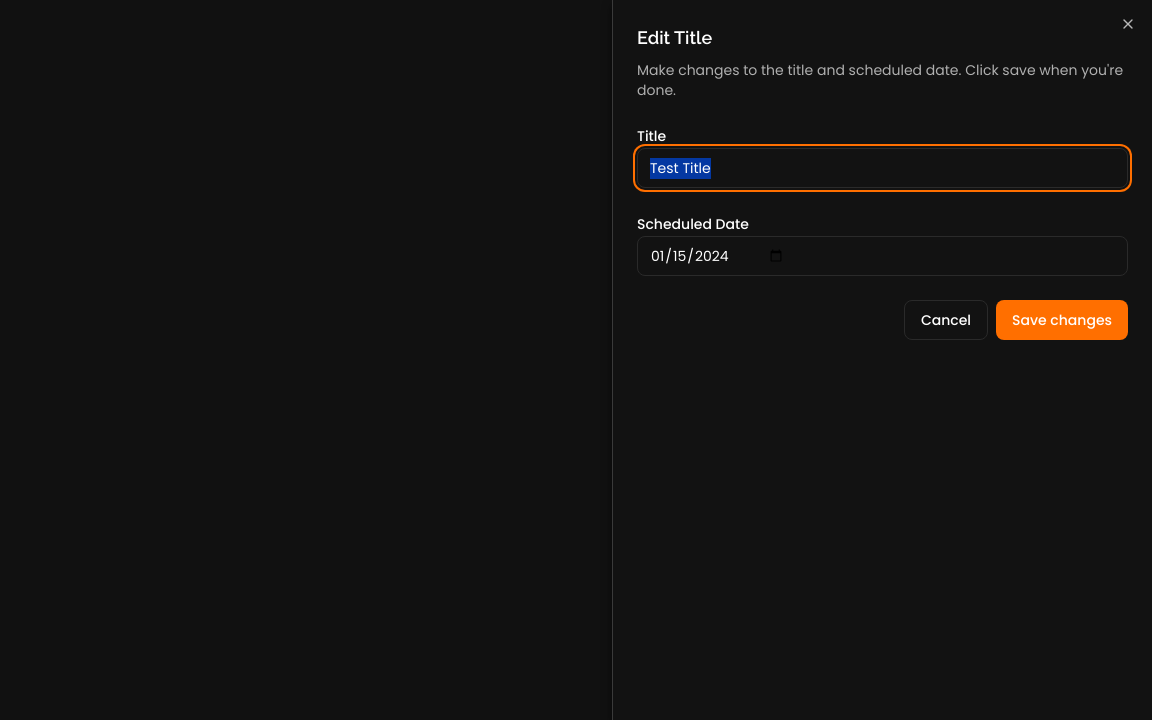
Test case: EditTitleSheet › shows error message when title is empty
This screenshot has width=1152, height=720.
Clear the field labelled "Title" at point(882, 168), box [637,148,1128,188]
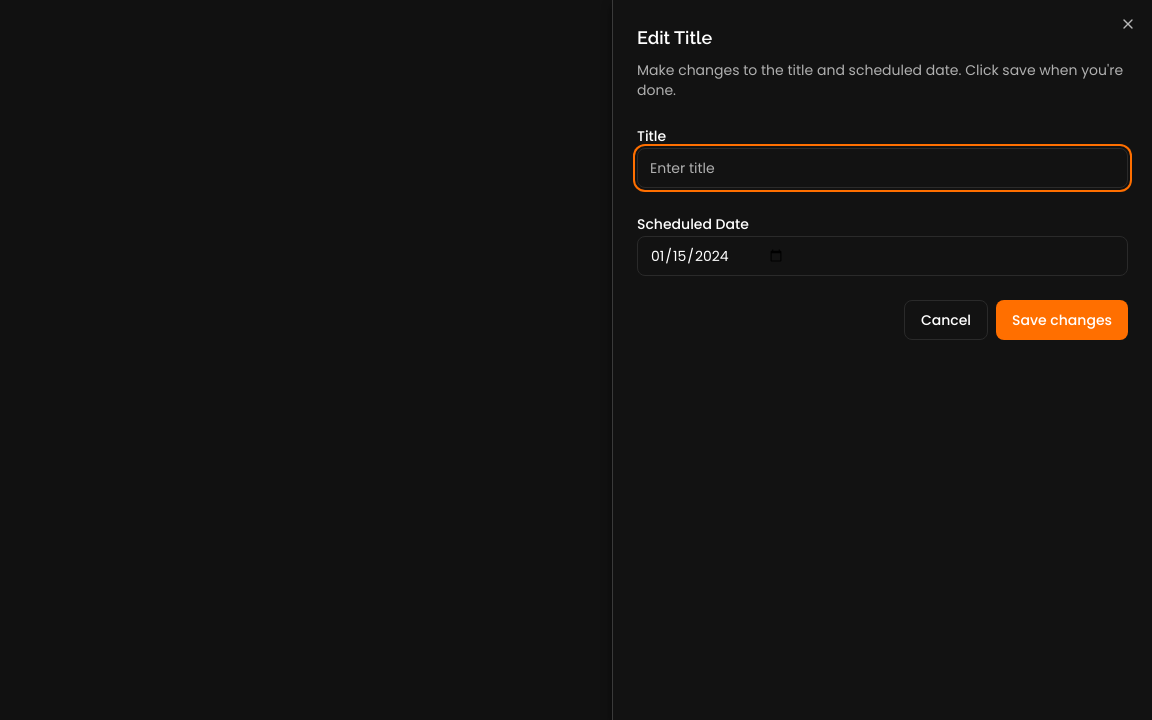
Click the button "Save changes" at point(1062, 320), box [996,300,1128,340]
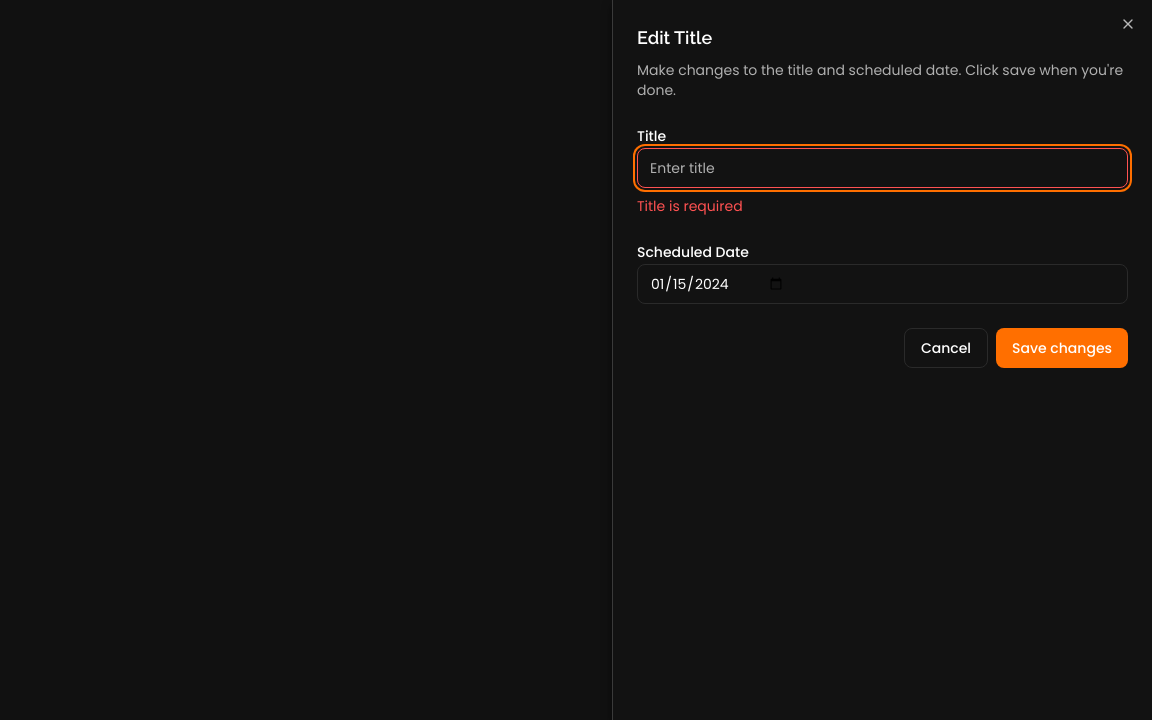
Check: the text "Title is required" is shown, box [637,196,743,216]
